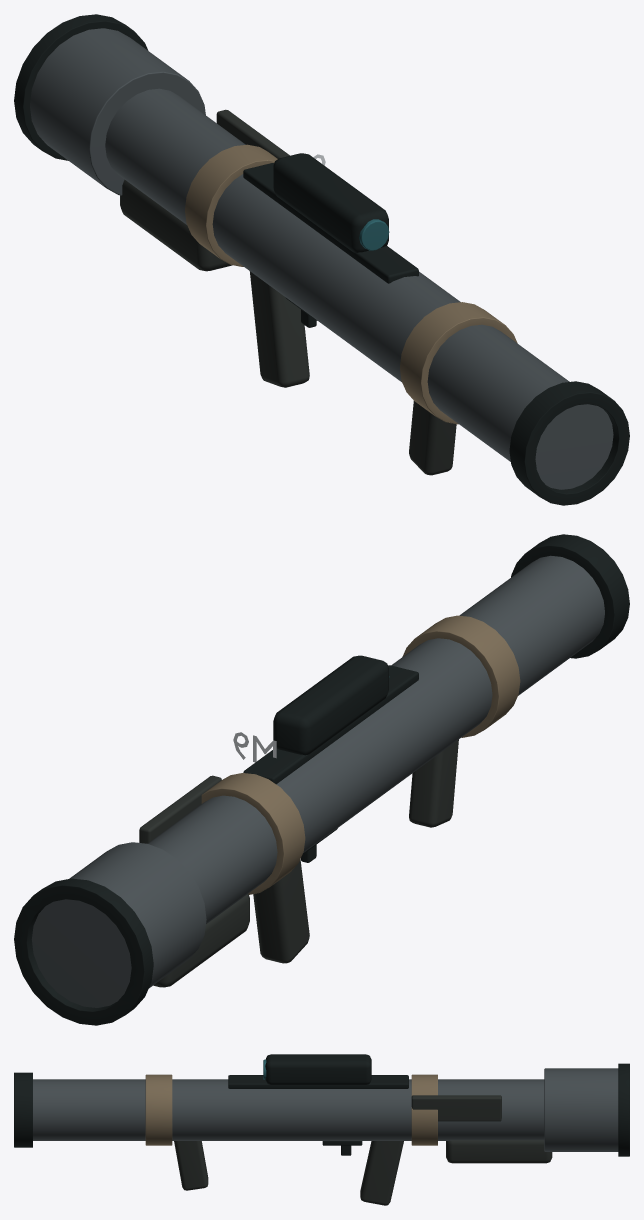
The model's file is m3_launcher.glb.
The picture shows the model from 3 angles, top to bottom: view 1: azimuth 30°, elevation 25°; view 2: azimuth 150°, elevation 25°; view 3: azimuth 270°, elevation 25°; orthographic projection. The views are drawn at different scales.
Parts seen in each view (by area): view 1: m3_launcher_nc7_alloy, m3_launcher_nc7_dark, m3_launcher_nc7_polymer, m3_launcher_nc7_coating, m3_launcher_nc7_lens; view 2: m3_launcher_nc7_alloy, m3_launcher_nc7_dark, m3_launcher_nc7_polymer, m3_launcher_nc7_coating; view 3: m3_launcher_nc7_alloy, m3_launcher_nc7_polymer, m3_launcher_nc7_dark, m3_launcher_nc7_coating.
Boxes of the visible parts, box(x1,y1,x2,y2) form: m3_launcher_nc7_alloy: box(30, 28, 613, 489); m3_launcher_nc7_dark: box(14, 14, 629, 505); m3_launcher_nc7_polymer: box(120, 109, 456, 475); m3_launcher_nc7_coating: box(185, 144, 517, 424); m3_launcher_nc7_lens: box(359, 219, 389, 250); m3_launcher_nc7_alloy: box(31, 555, 604, 1007); m3_launcher_nc7_dark: box(14, 534, 629, 1025); m3_launcher_nc7_polymer: box(139, 739, 458, 987); m3_launcher_nc7_coating: box(201, 615, 520, 894); m3_launcher_nc7_alloy: box(33, 1068, 618, 1151); m3_launcher_nc7_polymer: box(174, 1095, 552, 1205); m3_launcher_nc7_dark: box(14, 1054, 629, 1156); m3_launcher_nc7_coating: box(145, 1074, 437, 1145).
Size of the model in its own units: 0.176 by 0.3014 by 1.16.
